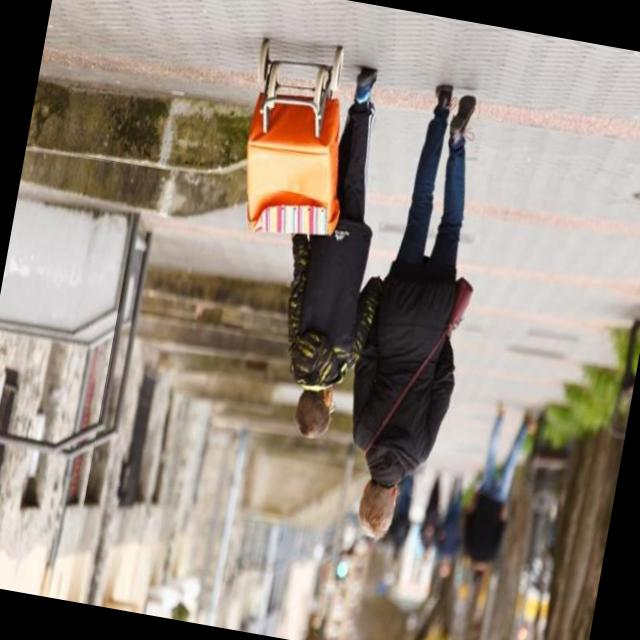person: (329, 70, 510, 558), (247, 44, 424, 443)
